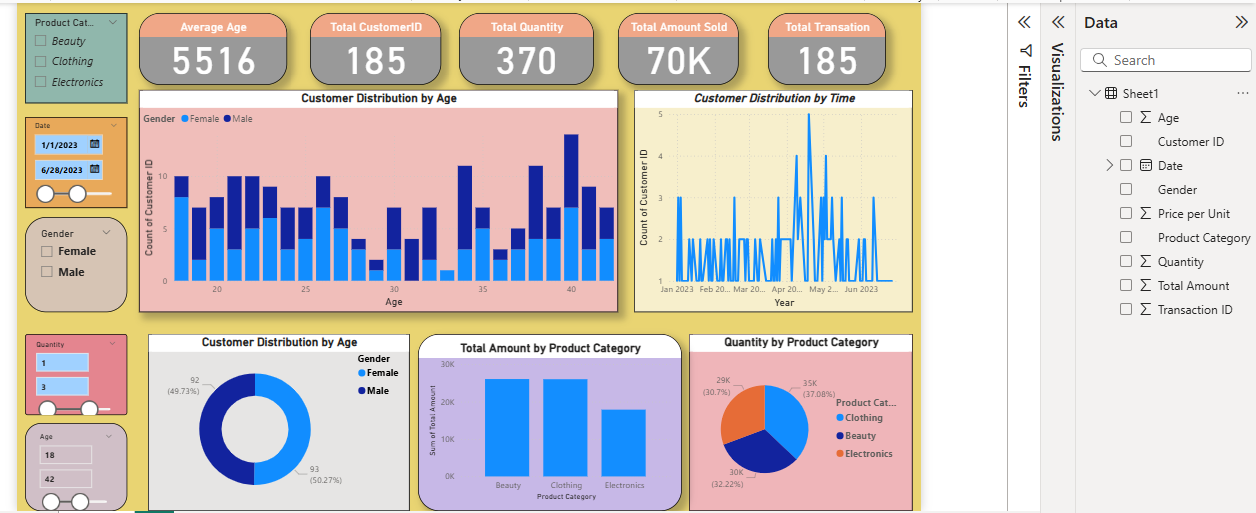

The page's visual inventory and layout, read from the dashboard file:
{"tool":"powerbi","page":{"name":"Page 1","canvas":[1280,720],"ordinal":0},"visuals":[{"type":"card","title":"Average Age","fields":{"Values":["Avg(Sheet1.Age)"]},"box":[205.5,60.9,209.8,100.6],"z":0},{"type":"card","title":"Total CustomerID","fields":{"Values":["CountNonNull(Sheet1.Customer ID)"]},"box":[439.4,60.9,185.7,107.7],"z":1000},{"type":"card","title":"Total Quantity","fields":{"Values":["Sum(Sheet1.Quantity)"]},"box":[659.1,60.9,191.3,100.6],"z":2000},{"type":"card","title":"Total Amount Sold","fields":{"Values":["Sum(Sheet1.Total Amount)"]},"box":[874.5,60.9,171.5,100.6],"z":3000},{"type":"card","title":"Total Transation","fields":{"Values":["CountNonNull(Sheet1.Transaction ID)"]},"box":[1092.8,60.9,167.2,100.6],"z":4000},{"type":"slicer","fields":{"Values":["Sheet1.Product Category"]},"box":[11.3,14.2,144.6,127.6],"z":5000},{"type":"columnChart","title":"Customer Distribution by Age","fields":{"Category":["Sheet1.Age"],"Y":["CountNonNull(Sheet1.Customer ID)"],"Series":["Sheet1.Gender"]},"box":[172.9,185.7,678.9,252.3],"z":6000},{"type":"lineChart","title":" Customer Distribution by Time","fields":{"Y":["CountNonNull(Sheet1.Customer ID)"],"Category":["Sheet1.Date.Variation.Date Hierarchy.Year","Sheet1.Date.Variation.Date Hierarchy.Quarter","Sheet1.Date.Variation.Date Hierarchy.Month","Sheet1.Date.Variation.Date Hierarchy.Day"]},"box":[874.5,185.7,395.4,252.3],"z":7000},{"type":"pieChart","title":" Quantity by Product Category","fields":{"Category":["Sheet1.Product Category"],"Y":["Sum(Sheet1.Transaction ID)"]},"box":[952.4,469.1,317.5,250.9],"z":8000},{"type":"columnChart","title":"Total Amount by Product Category","fields":{"Y":["Sum(Sheet1.Total Amount)"],"Category":["Sheet1.Product Category"]},"box":[568.3,469.1,374.2,250.9],"z":9000},{"type":"donutChart","title":" Customer Distribution by Age","fields":{"Category":["Sheet1.Gender"],"Y":["CountNonNull(Sheet1.Customer ID)"]},"box":[185.7,469.1,371.3,250.9],"z":10000},{"type":"slicer","fields":{"Values":["Sheet1.Date"]},"box":[11.3,161.6,144.6,129],"z":11000},{"type":"slicer","fields":{"Values":["Sheet1.Gender"]},"box":[11.3,303.3,144.6,134.6],"z":12000},{"type":"slicer","fields":{"Values":["Sheet1.Quantity"]},"box":[11.3,469.1,144.6,114.8],"z":13000},{"type":"slicer","fields":{"Values":["Sheet1.Age"]},"box":[11.3,595.3,144.6,124.7],"z":14000},{"type":"textbox","box":[439.4,0,565.5,46.8],"z":14001}]}

Visuals, with their boxes in screenshot pixels (x1, y1, x2, y2):
"Average Age" card: left=158, top=17, right=305, bottom=87
"Total CustomerID" card: left=322, top=17, right=453, bottom=92
"Total Quantity" card: left=477, top=17, right=611, bottom=87
"Total Amount Sold" card: left=628, top=17, right=749, bottom=87
"Total Transation" card: left=782, top=17, right=899, bottom=87
slicer - Sheet1.Product Category: left=21, top=0, right=123, bottom=74
"Customer Distribution by Age" columnChart: left=135, top=104, right=612, bottom=282
" Customer Distribution by Time" lineChart: left=628, top=104, right=906, bottom=282
" Quantity by Product Category" pieChart: left=683, top=304, right=906, bottom=480
"Total Amount by Product Category" columnChart: left=413, top=304, right=676, bottom=480
" Customer Distribution by Age" donutChart: left=144, top=304, right=405, bottom=480
slicer - Sheet1.Date: left=21, top=87, right=123, bottom=178
slicer - Sheet1.Gender: left=21, top=187, right=123, bottom=282
slicer - Sheet1.Quantity: left=21, top=304, right=123, bottom=385
slicer - Sheet1.Age: left=21, top=393, right=123, bottom=480
textbox: left=322, top=0, right=720, bottom=7
